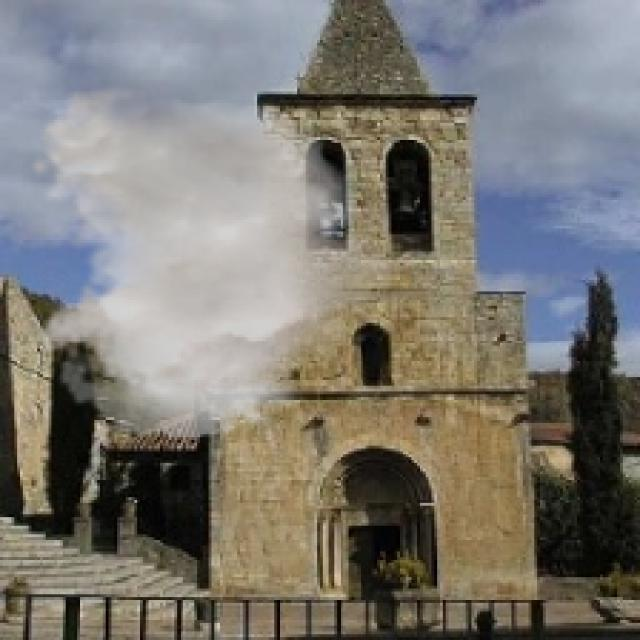Smoke: (26, 86, 400, 440)
